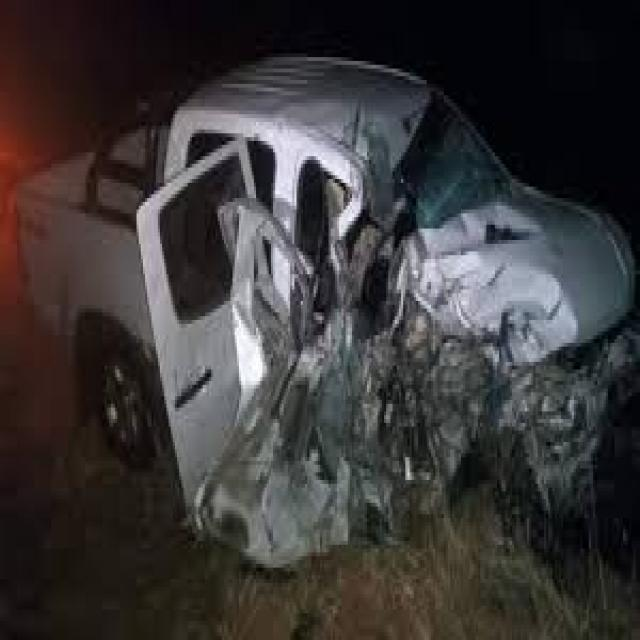accident: (42, 53, 609, 545)
